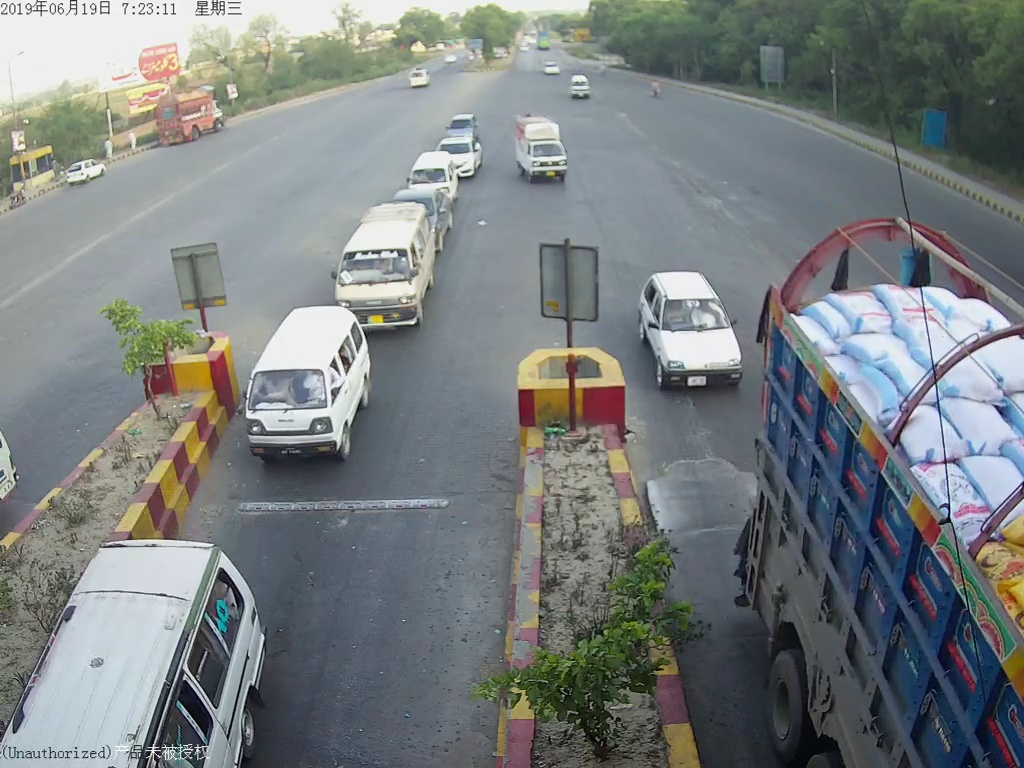Cat-1: (238, 305, 381, 469), (634, 266, 750, 395)
Cat-2: (36, 543, 267, 767), (331, 217, 436, 326)
Cat-5: (765, 241, 1019, 768)
